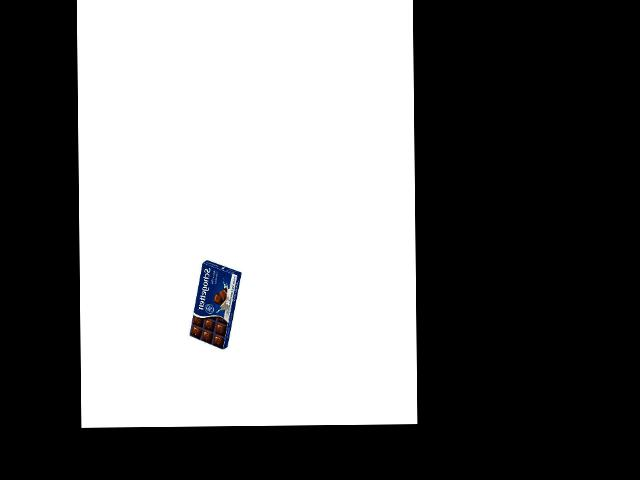chocolate: (188, 258, 235, 350)
